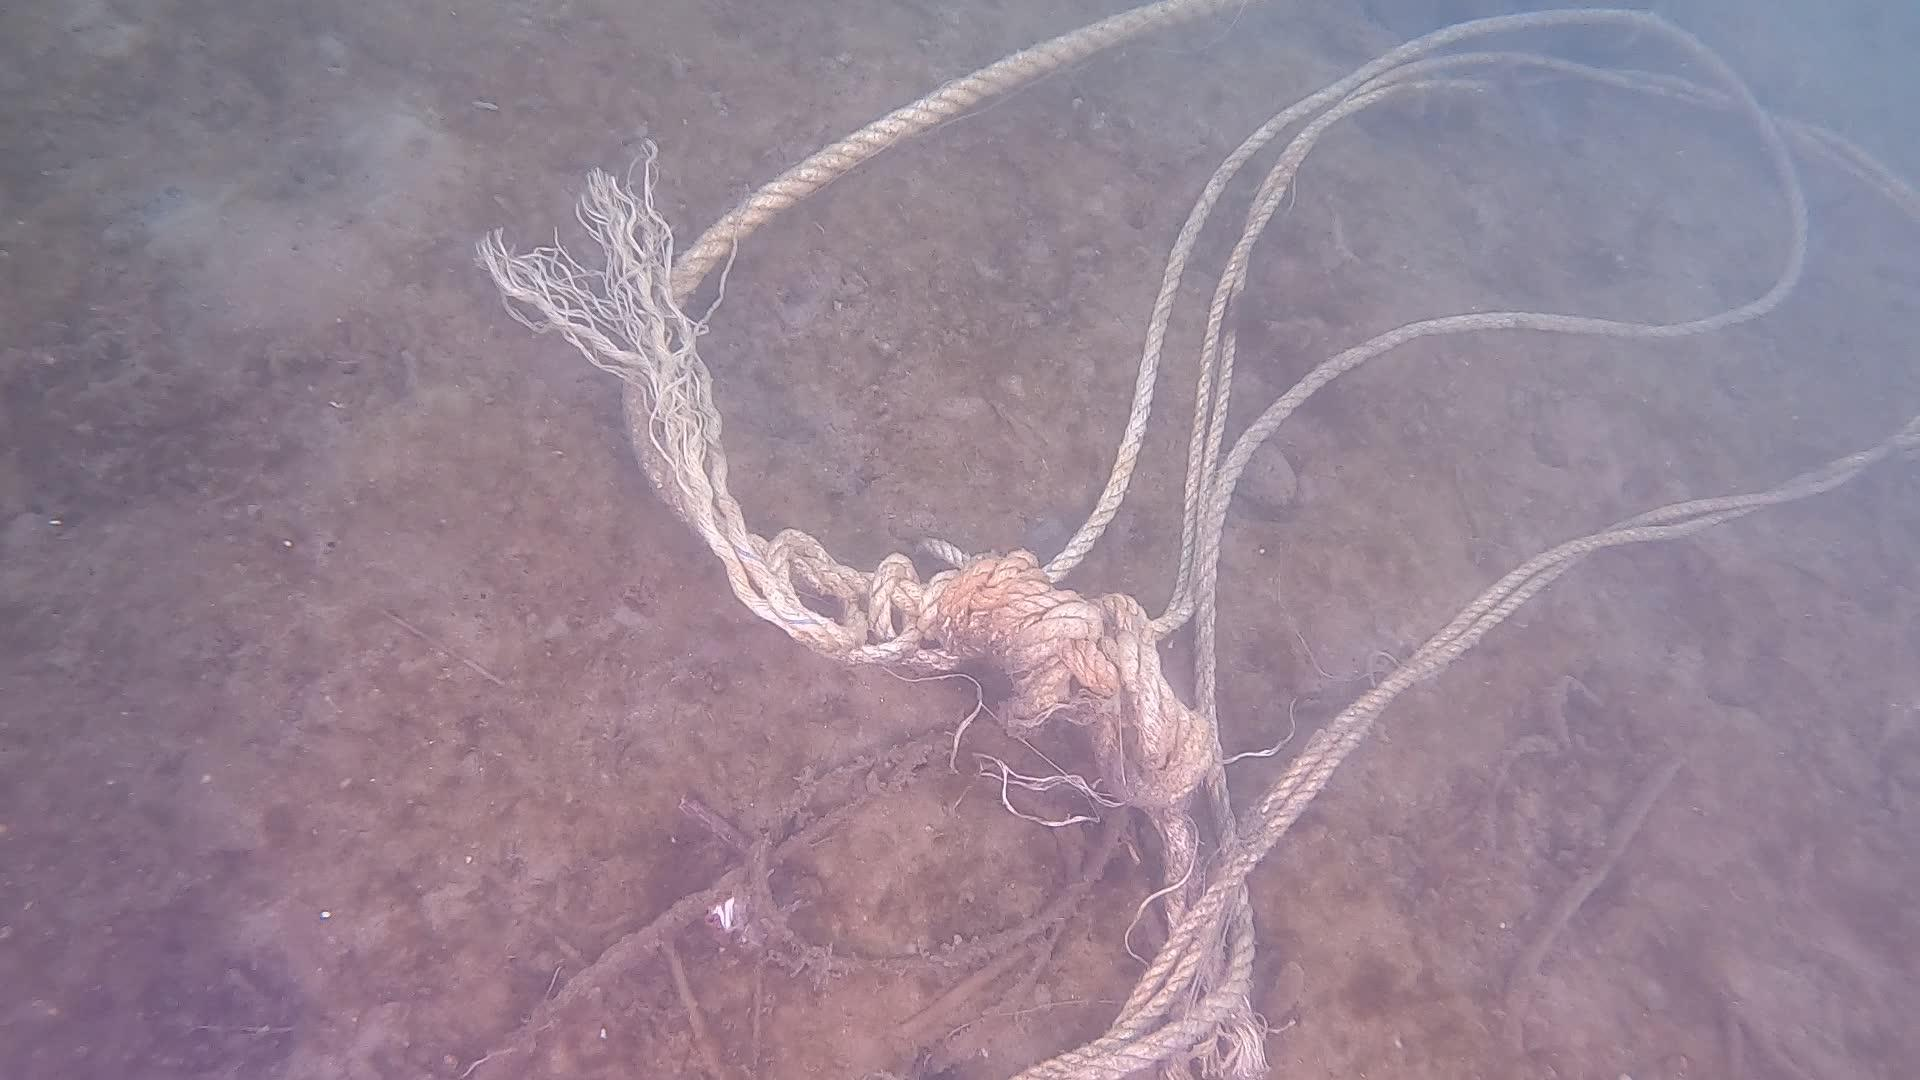bundle of ropes: (616, 3, 1920, 1080)
